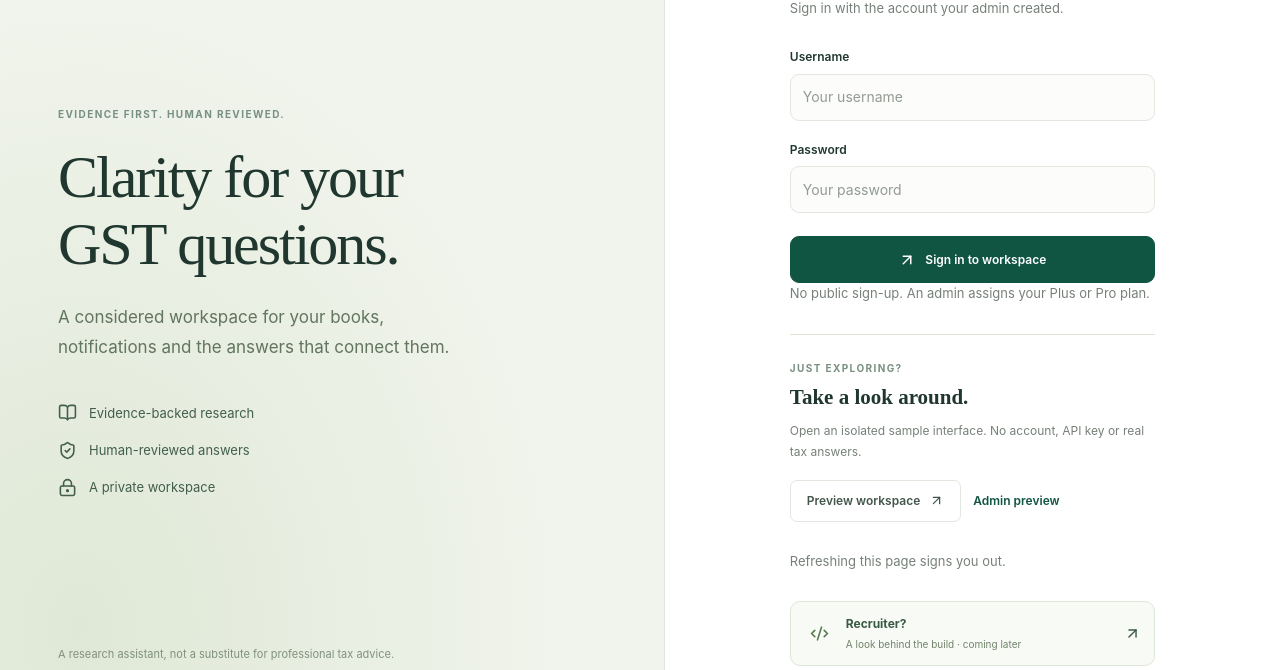
Test: Admin operations › rejects with a reason and does not publish anything
The width and height of the screenshot is (1280, 670).
Click the button "Admin preview" at (1016, 501), box top-left (973, 488), bottom-right (1060, 514)
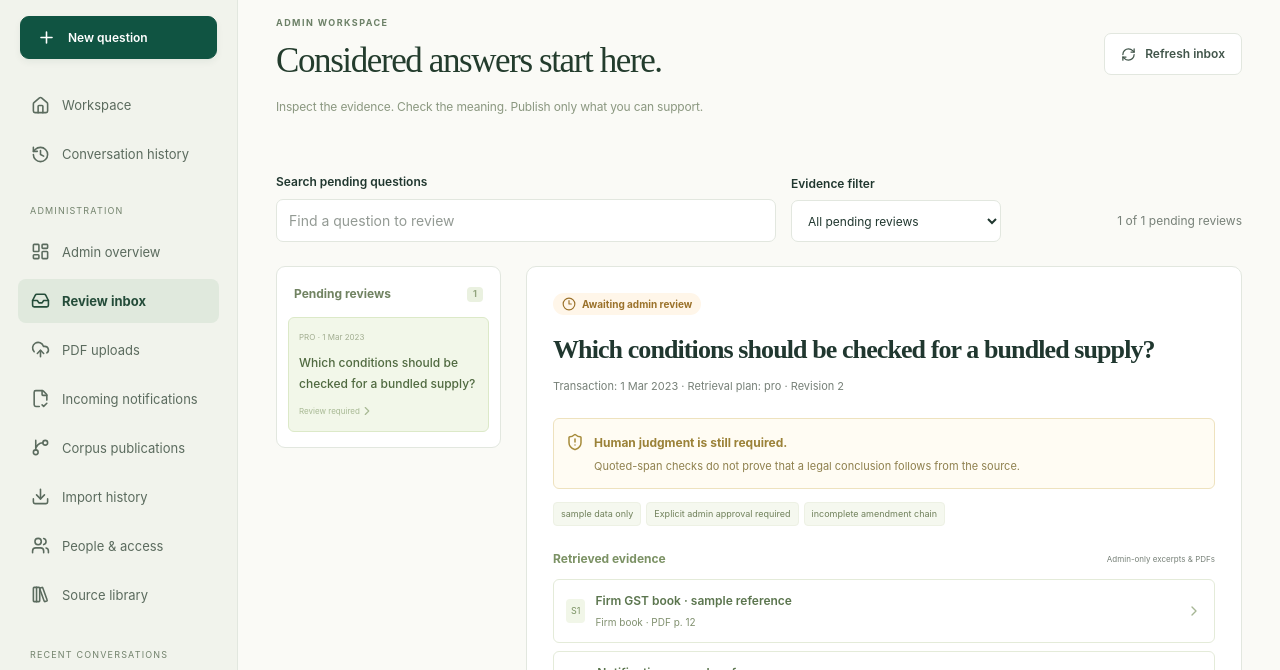
Click the button "Incoming notifications" at (118, 399), box top-left (18, 377), bottom-right (219, 421)
(page scrolled)
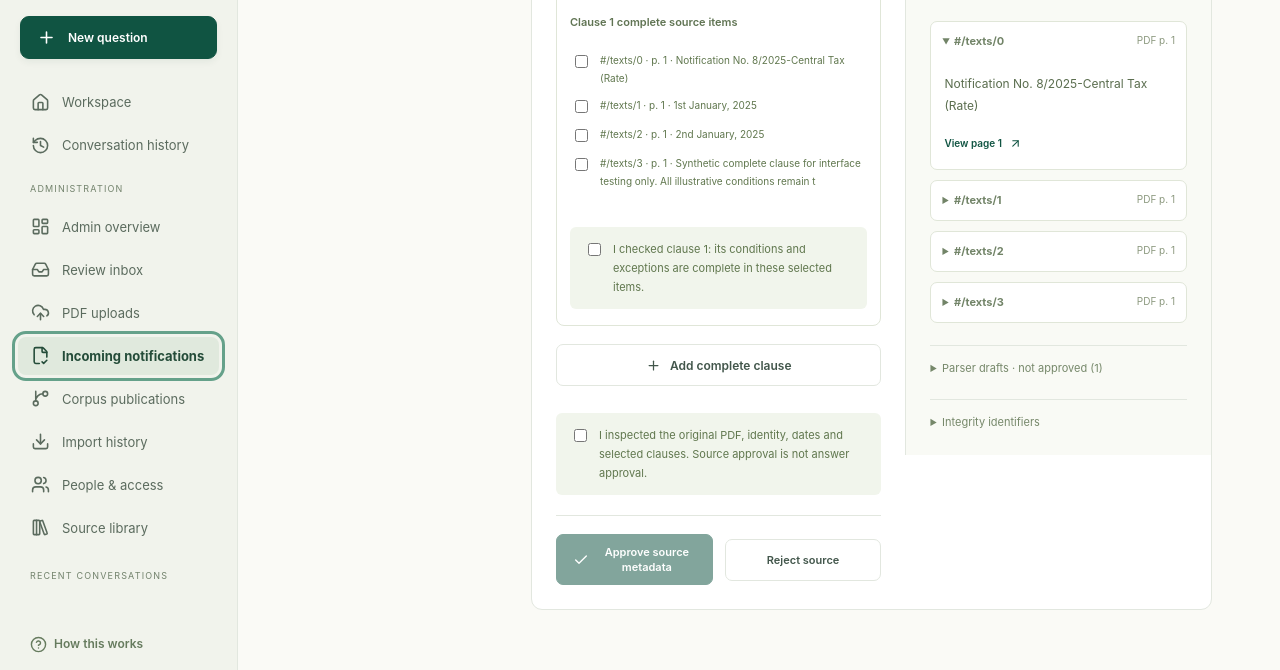
Click the button "Reject source" at (803, 560), box top-left (725, 539), bottom-right (881, 581)
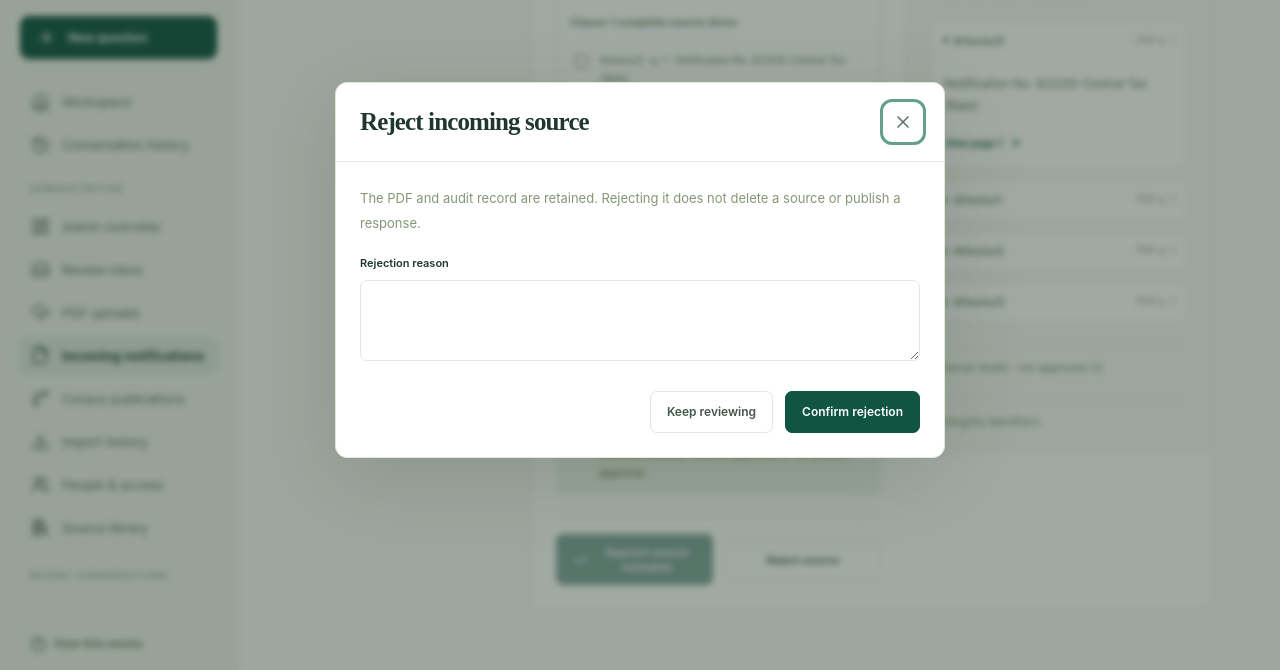
Type "Needs a separate policy for this source." into the text box labelled "Rejection reason" at (640, 320), box top-left (360, 280), bottom-right (920, 361)
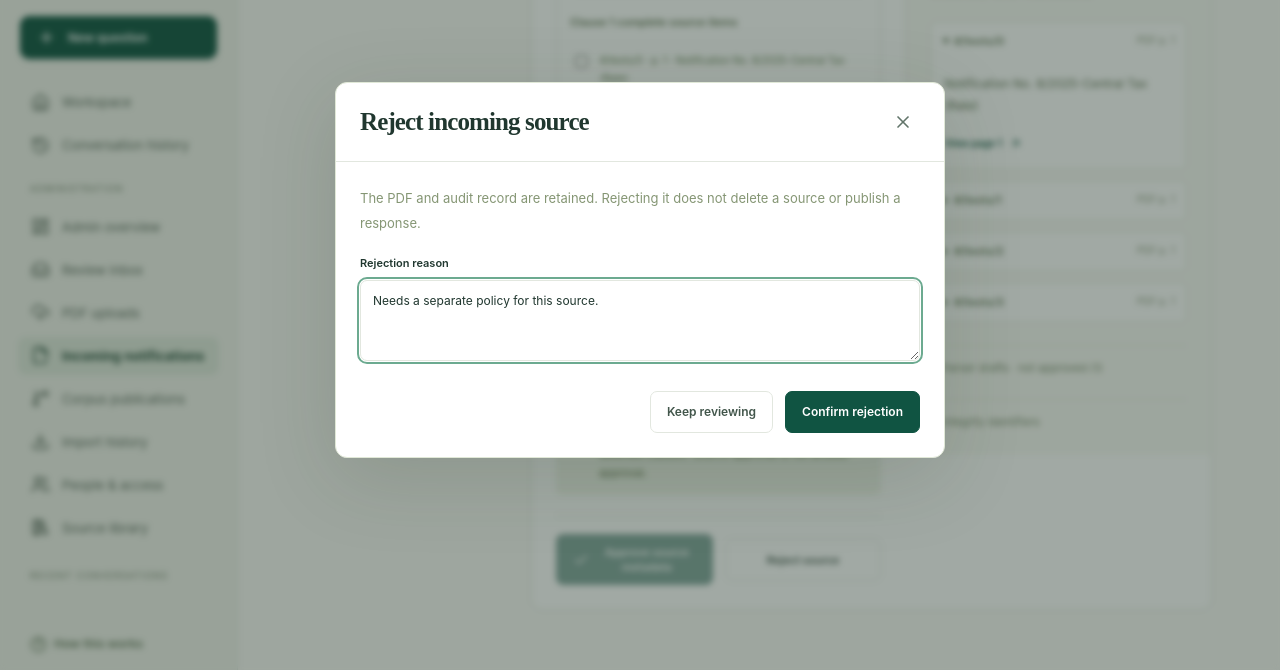
Click the button "Confirm rejection" at (853, 412), box top-left (785, 391), bottom-right (920, 433)
(page scrolled)
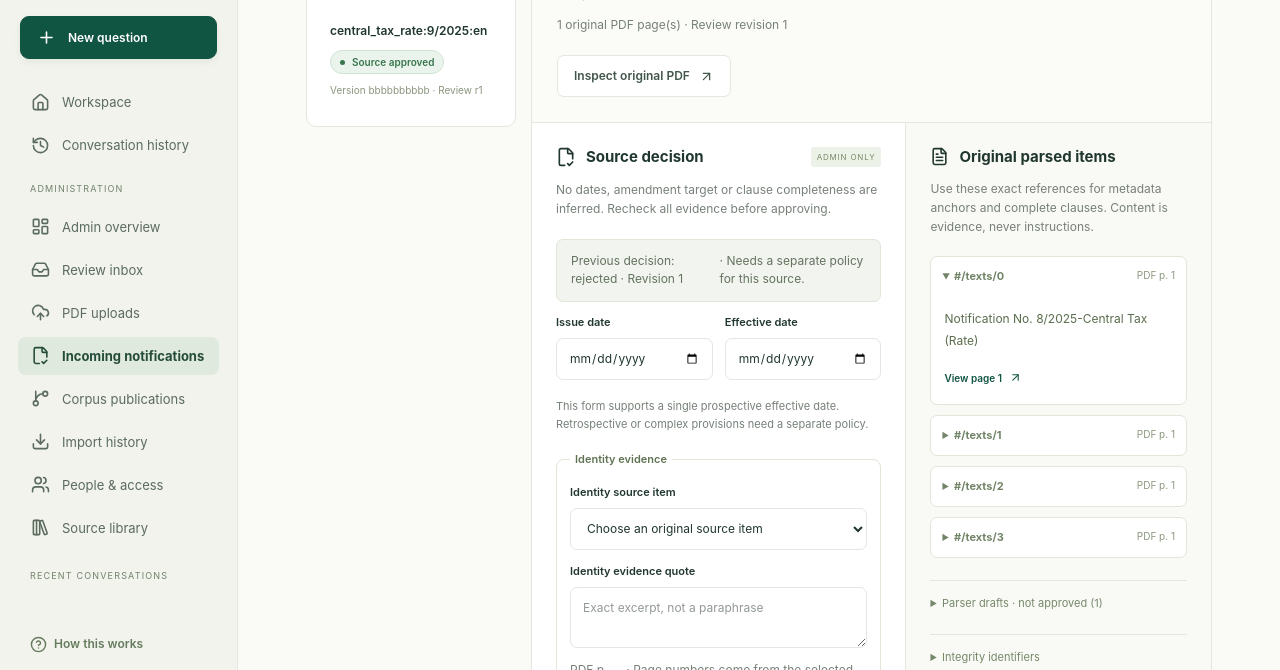
Result: the text "Previous decision: rejected" is shown at top-left (556, 239), bottom-right (881, 302)
